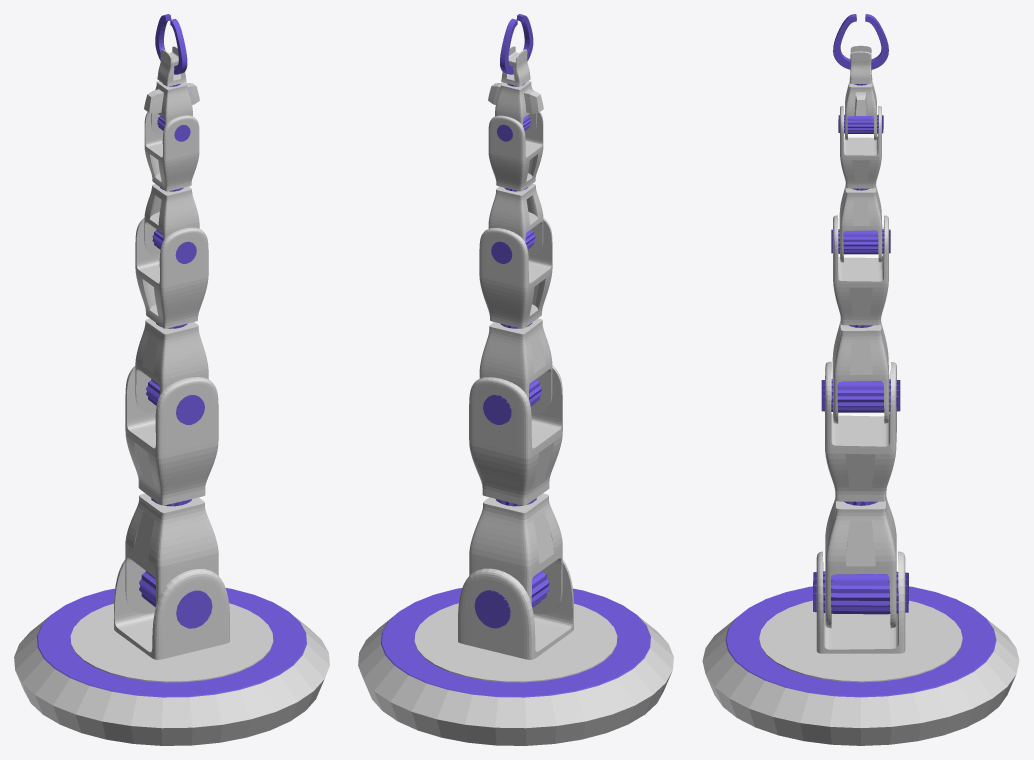
The model's file is Robot.glb.
3 views of the same model, side by side, from view 1: azimuth 30°, elevation 25°; view 2: azimuth 150°, elevation 25°; view 3: azimuth 270°, elevation 25° (orthographic).
Visible parts, largest first — view 1: Robot-Base, Robot-Base.001, Arm1-B, Arm1-A, Arm-Base, Arm2-B, Arm2-A, Arm3-B, Arm3-A, Arm1-A-Pin, Arm4-A, Arm2-A-Pin (+4 smaller); view 2: Robot-Base, Robot-Base.001, Arm1-B, Arm1-A, Arm-Base, Arm2-B, Arm2-A, Arm3-B, Arm3-A, Arm1-A-Pin, Arm4-A, Arm2-A-Pin (+4 smaller); view 3: Robot-Base, Robot-Base.001, Arm1-B, Arm1-A, Arm-Base, Arm2-B, Arm2-A, Arm1-A-Pin, Arm3-B, Arm3-A, Arm2-A-Pin, Arm3-A-Pin (+5 smaller).
Boxes of the visible parts, box(x1,y1,x2,y2) form: Robot-Base: box(14, 603, 329, 745); Robot-Base.001: box(37, 588, 306, 697); Arm1-B: box(125, 366, 218, 505); Arm1-A: box(125, 493, 218, 613); Arm-Base: box(114, 559, 229, 659); Arm2-B: box(135, 218, 208, 328); Arm2-A: box(135, 318, 208, 412); Arm3-B: box(144, 112, 199, 191); Arm3-A: box(144, 184, 199, 254); Arm1-A-Pin: box(139, 571, 212, 628); Arm4-A: box(151, 81, 192, 134); Arm2-A-Pin: box(146, 379, 204, 424); Robot-Base: box(358, 603, 673, 745); Robot-Base.001: box(381, 588, 650, 697); Arm1-B: box(469, 365, 562, 505); Arm1-A: box(469, 493, 562, 614); Arm-Base: box(458, 559, 573, 659); Arm2-B: box(479, 218, 552, 328); Arm2-A: box(479, 318, 552, 412); Arm3-B: box(488, 112, 543, 191); Arm3-A: box(488, 183, 543, 254); Arm1-A-Pin: box(474, 570, 549, 628); Arm4-A: box(495, 81, 536, 134); Arm2-A-Pin: box(483, 379, 541, 424); Robot-Base: box(702, 600, 1019, 745); Robot-Base.001: box(725, 586, 996, 697); Arm1-B: box(825, 361, 896, 501); Arm1-A: box(825, 497, 896, 628); Arm-Base: box(816, 551, 905, 653); Arm2-B: box(833, 215, 888, 325); Arm2-A: box(832, 316, 889, 423); Arm1-A-Pin: box(813, 571, 908, 614); Arm3-B: box(840, 106, 881, 188); Arm3-A: box(839, 183, 882, 262); Arm2-A-Pin: box(821, 379, 900, 412); Arm3-A-Pin: box(831, 229, 890, 254).
Size of the model in its own units: 2.61 by 6.07 by 2.61.
